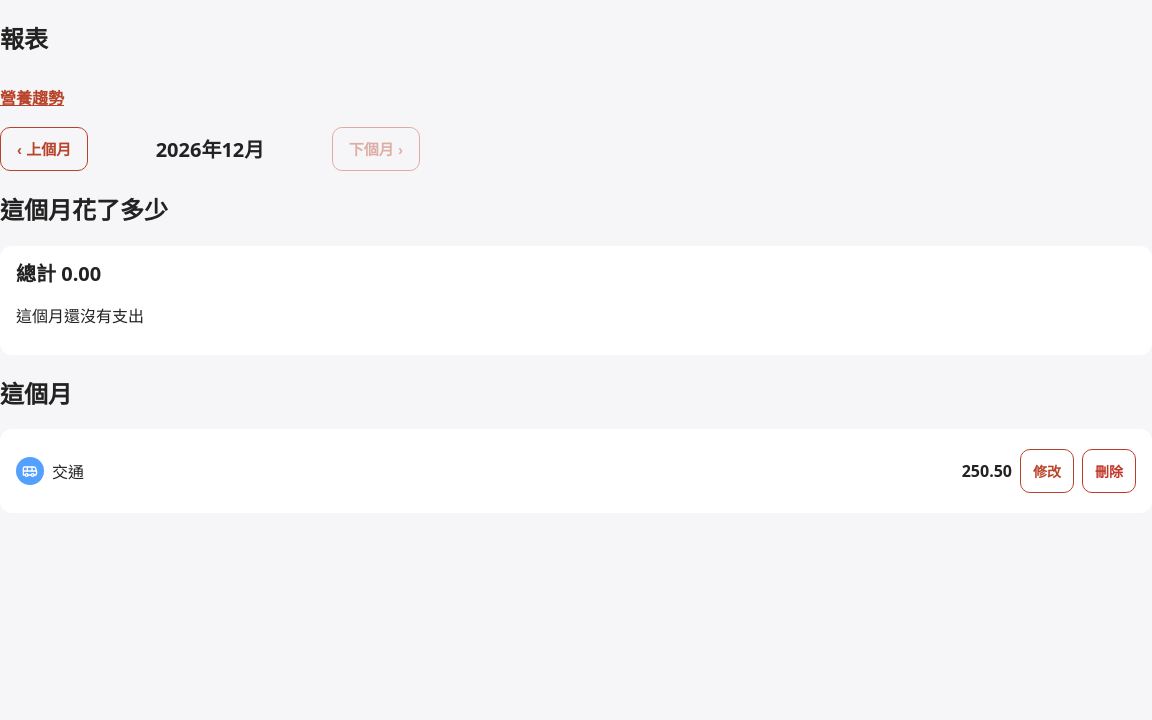
it: 記帳 /expenses › 刪除要先確認
Check: the text "250.50" is shown, box [962,460,1012,482]
Click the button "刪除" at (1109, 471), box [1082,449,1136,493]
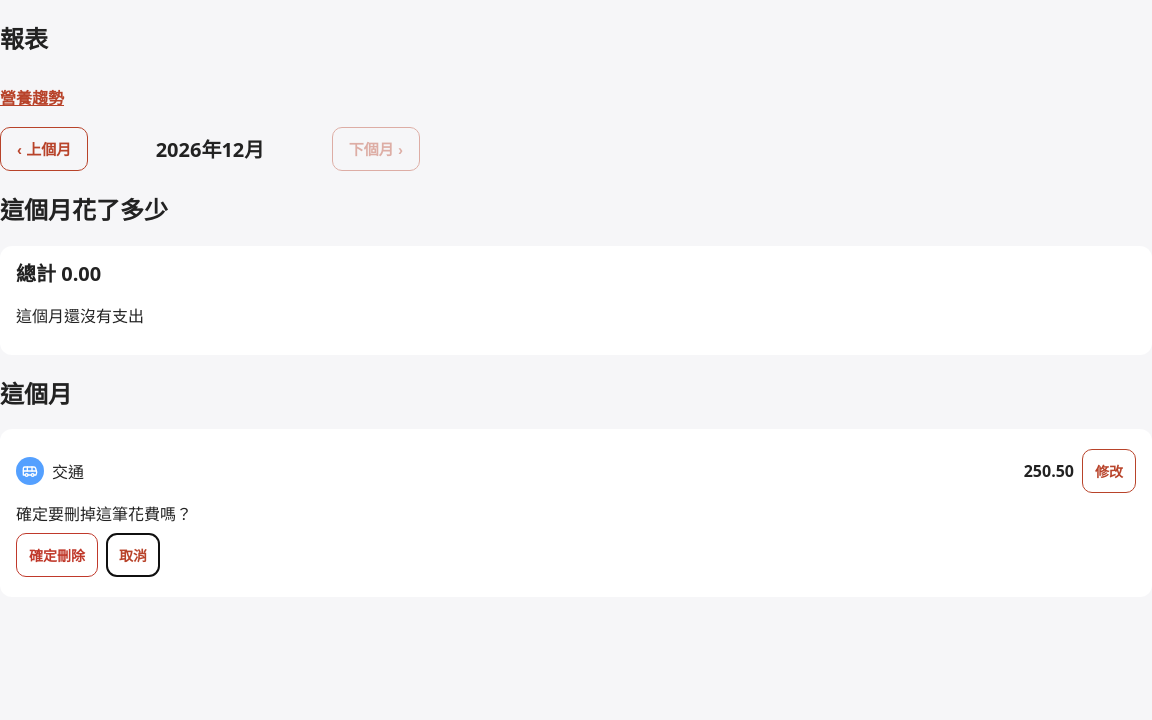
Check: the text "確定要刪掉這筆花費嗎？" is shown, box [16,503,192,525]
